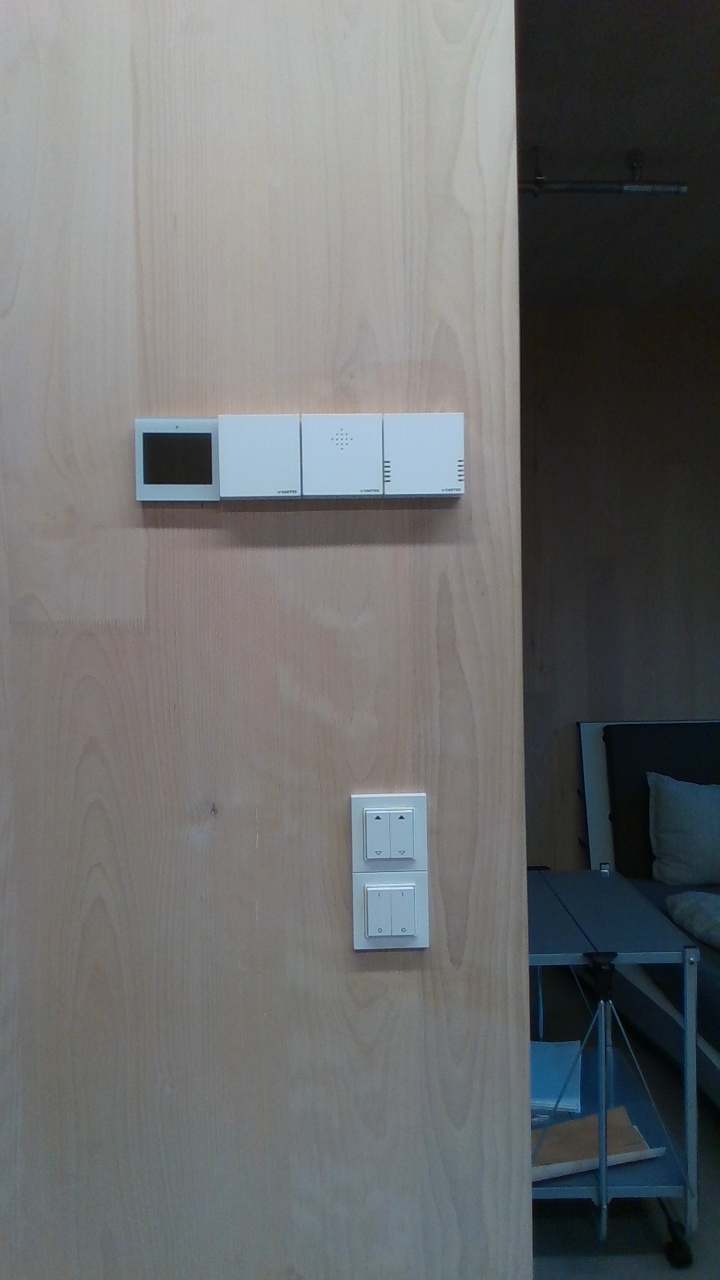Light_Switch: (353, 874, 428, 946), (354, 796, 426, 870)
